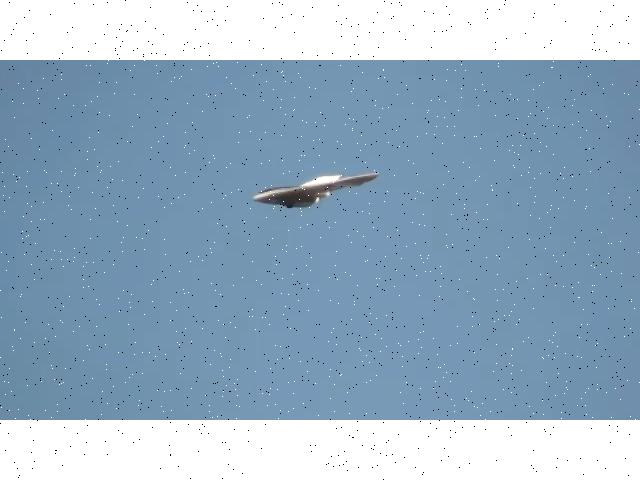Anti-Drone: (253, 176, 379, 208)
